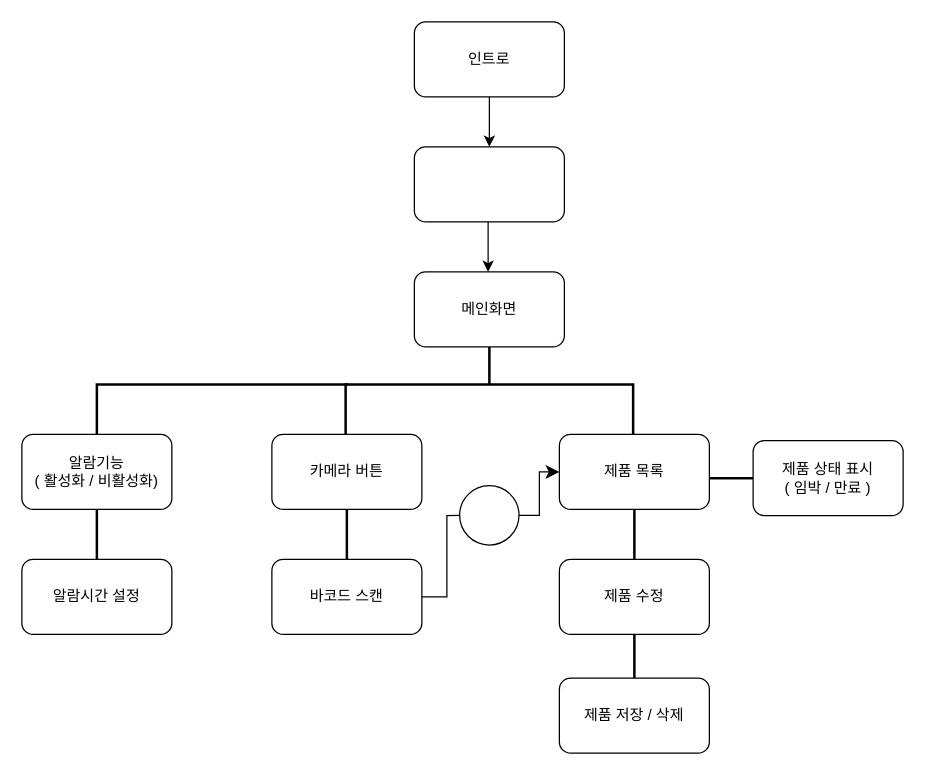
Image size: 925x775. Some labels were removed from this diagram. Here are the shapes that lost their labels. From the top down, the centre of each, then its label:
pixel 488 184: 로그인 화면
pixel 488 514: 저장
